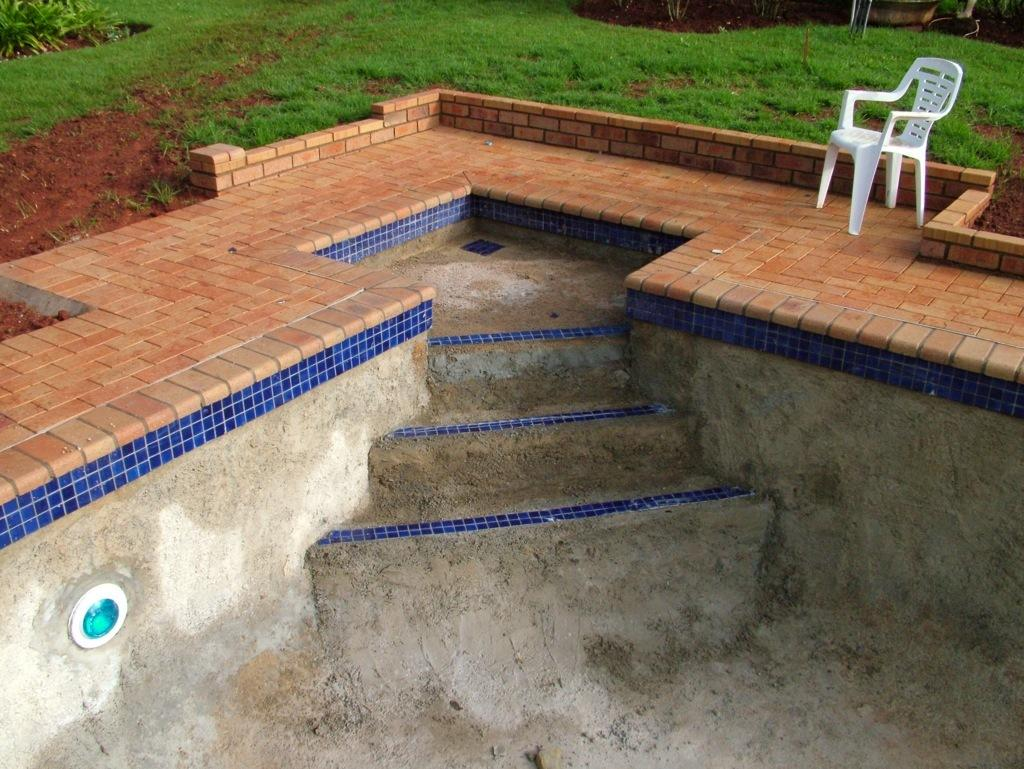Chair: (824, 51, 970, 250)
